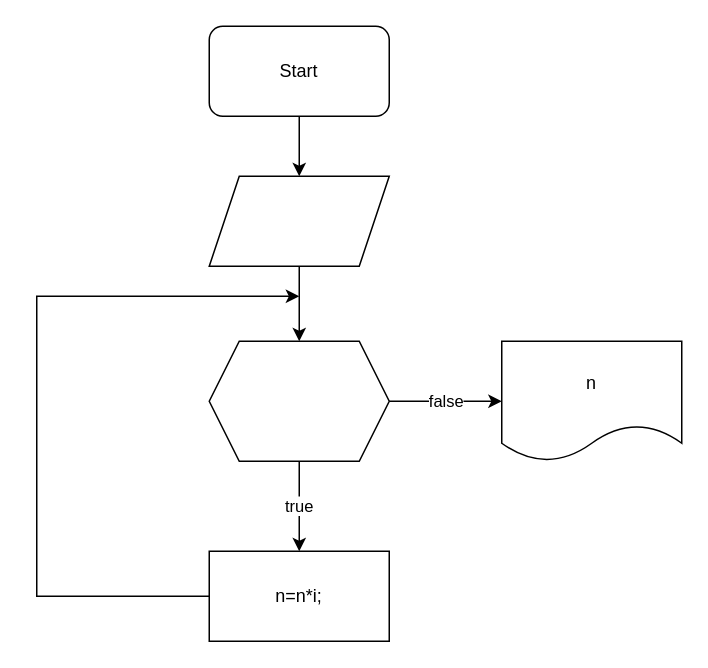
This 708x668 diagram has some shape labels left out. The centre of each missing label's shape, as x and y in pixels:
"a=7,n" belongs at pixel 298 220.
"for i=1; i<=a; i++;" belongs at pixel 298 400.
